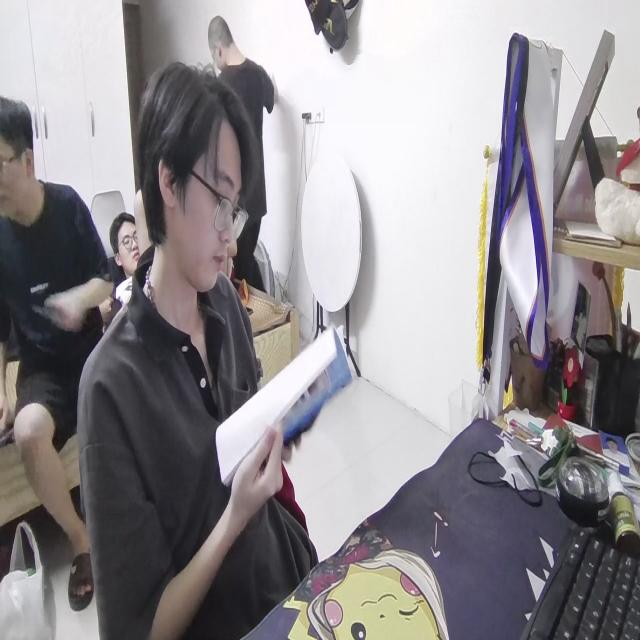book: (208, 320, 354, 480)
extra_person: (1, 87, 117, 607), (212, 11, 276, 289)
student: (81, 57, 317, 637)
